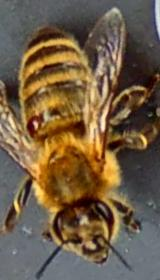varroa_mite: (15, 107, 52, 143)
